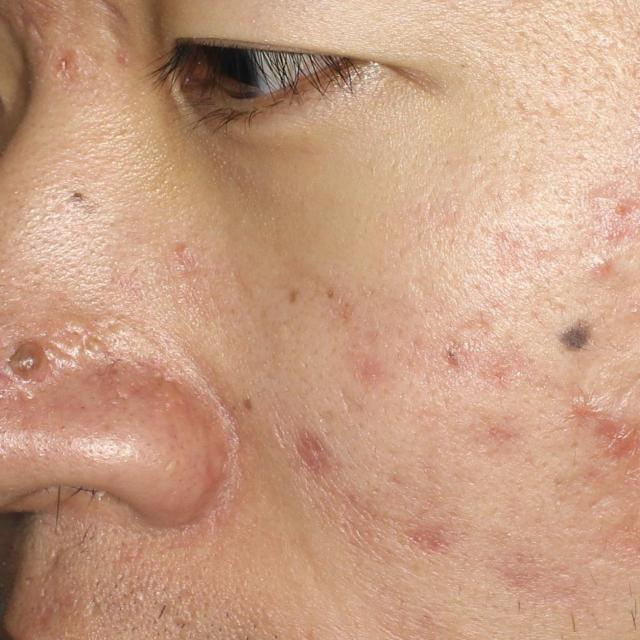blackhead: (73, 193, 81, 199), (448, 353, 455, 359), (328, 291, 333, 298), (61, 426, 65, 430), (81, 407, 84, 408)
nodule: (8, 341, 47, 382)
